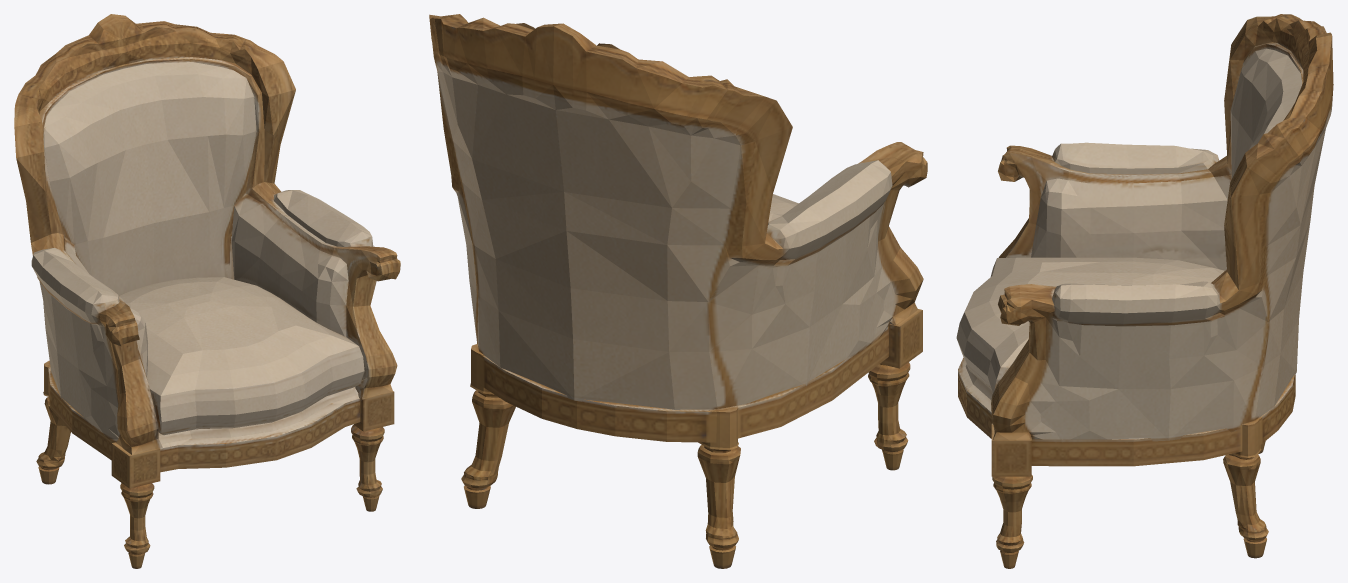
Rendered from SingleSofa.fbx.
The picture shows the model from 3 angles, left to right: view 1: azimuth 30°, elevation 25°; view 2: azimuth 150°, elevation 25°; view 3: azimuth 270°, elevation 25°; orthographic projection. The views are drawn at different scales.
Visible parts, largest first — view 1: SingleSofa_Low; view 2: SingleSofa_Low; view 3: SingleSofa_Low.
Boxes of the visible parts, x1,y1,x2,y2 form: SingleSofa_Low: (14, 14, 400, 568); SingleSofa_Low: (429, 14, 927, 568); SingleSofa_Low: (956, 14, 1333, 568).
Size of the model in its own units: 1.02 by 1.41 by 1.03.
